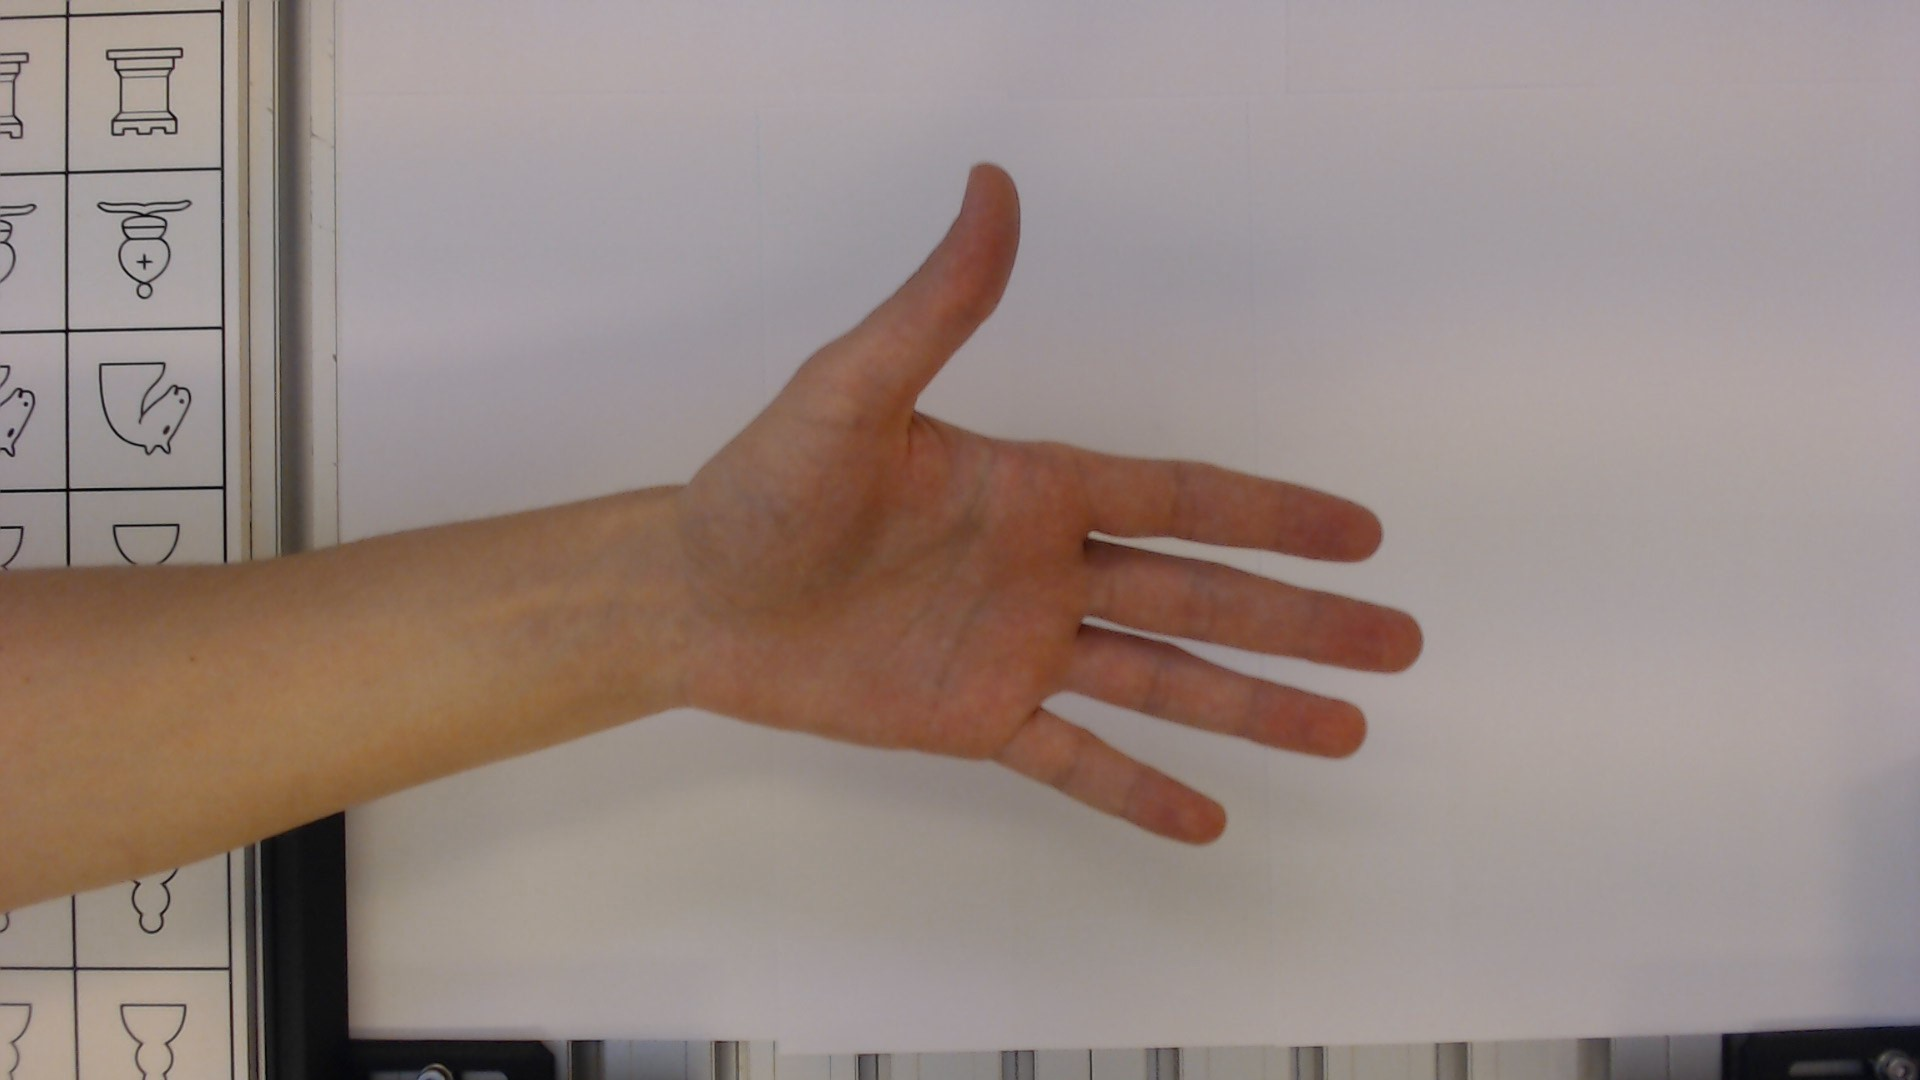Palm: (670, 324, 1116, 811)
